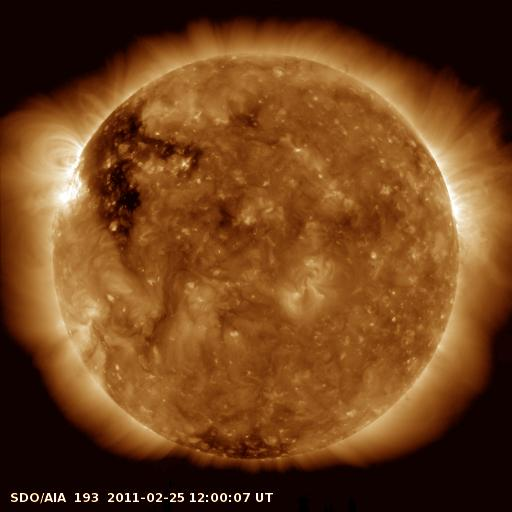coronal_hole: (75, 107, 204, 248), (171, 430, 299, 461)
